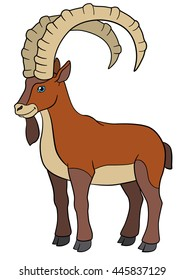animal: (16, 3, 174, 259)
